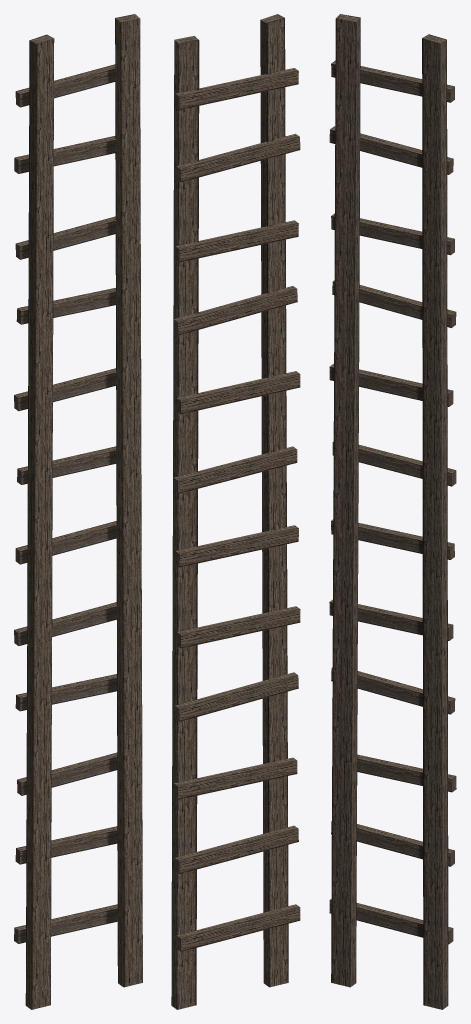
The model's file is WLad01.glb.
The picture shows the model from 3 angles, left to right: view 1: azimuth 30°, elevation 25°; view 2: azimuth 210°, elevation 25°; view 3: azimuth 330°, elevation 25°; orthographic projection.
Visible parts, largest first — view 1: _WLad01; view 2: _WLad01; view 3: _WLad01.
Part boxes in pixels (<box>): _WLad01: <box>14,14,142,1009</box>; _WLad01: <box>171,14,300,1009</box>; _WLad01: <box>329,14,456,1009</box>.
Size of the model in its own units: 0.9314 by 7 by 0.1354.
Materials: 1 (1 with a texture image).
